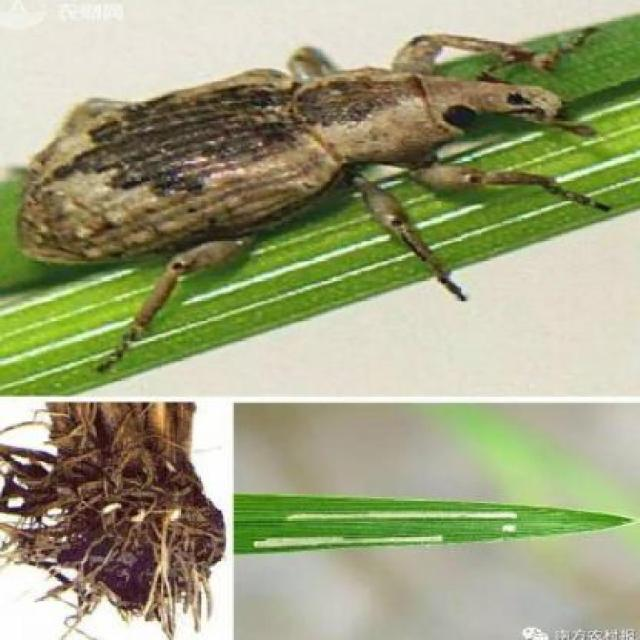rice-bug: (16, 34, 584, 275)
